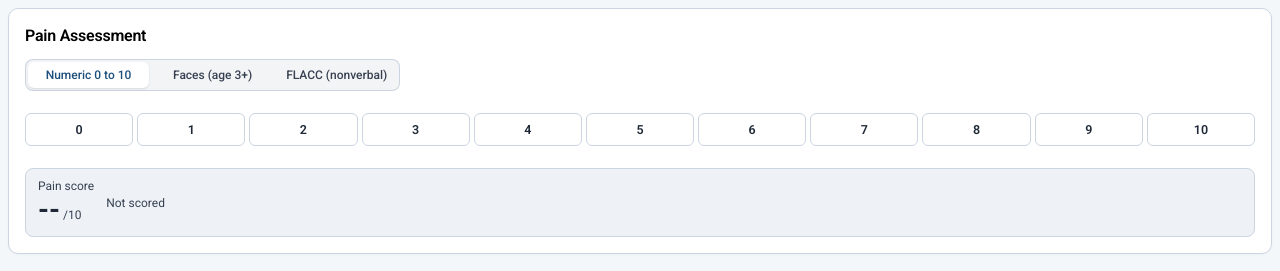
it: PainScale › picks a numeric score with band and goal check
Expected: the message shows "Not scored", left=106, top=196, right=165, bottom=210
What coordinates should you click on to do the following:
click the radio button labelled "7"
I would click on:
 (864, 130)
Its box is left=810, top=113, right=918, bottom=146.
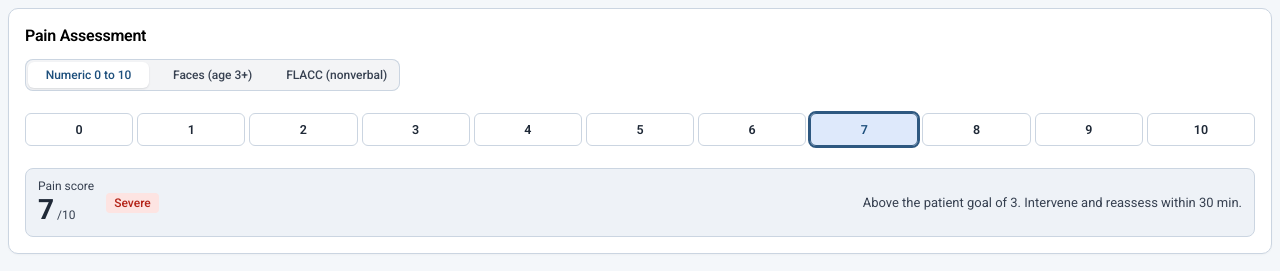
Expected: the message shows "Severe", left=114, top=196, right=151, bottom=210
Expected: the message shows "Above the patient goal of 3. Intervene and reassess within 30 min.", left=863, top=195, right=1242, bottom=210
